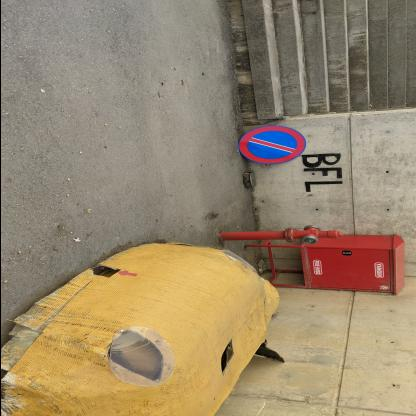No Waiting: (238, 127, 306, 165)
